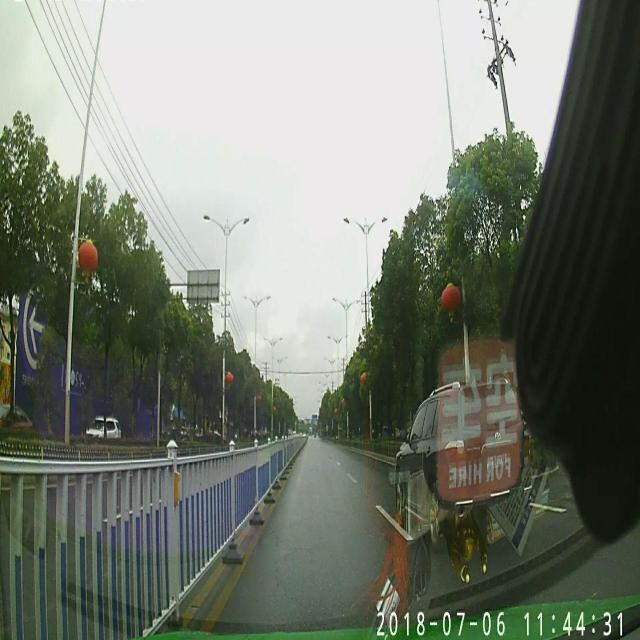car: (396, 377, 526, 542), (84, 414, 120, 438)
